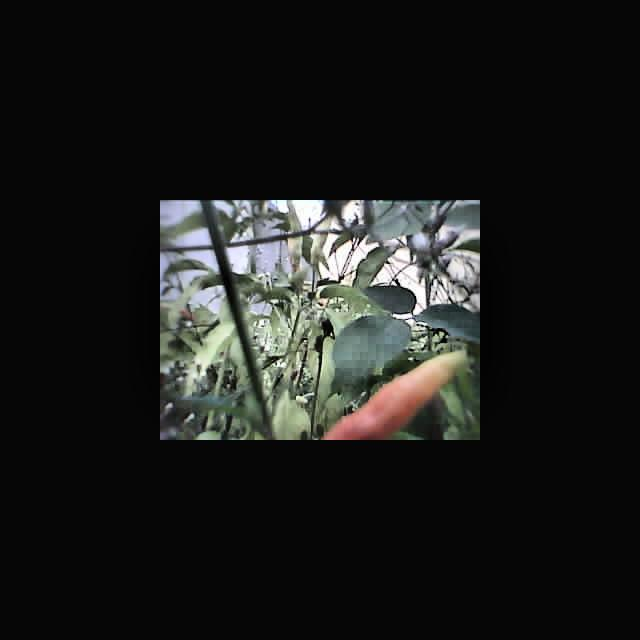Cabai: (317, 346, 480, 440)
